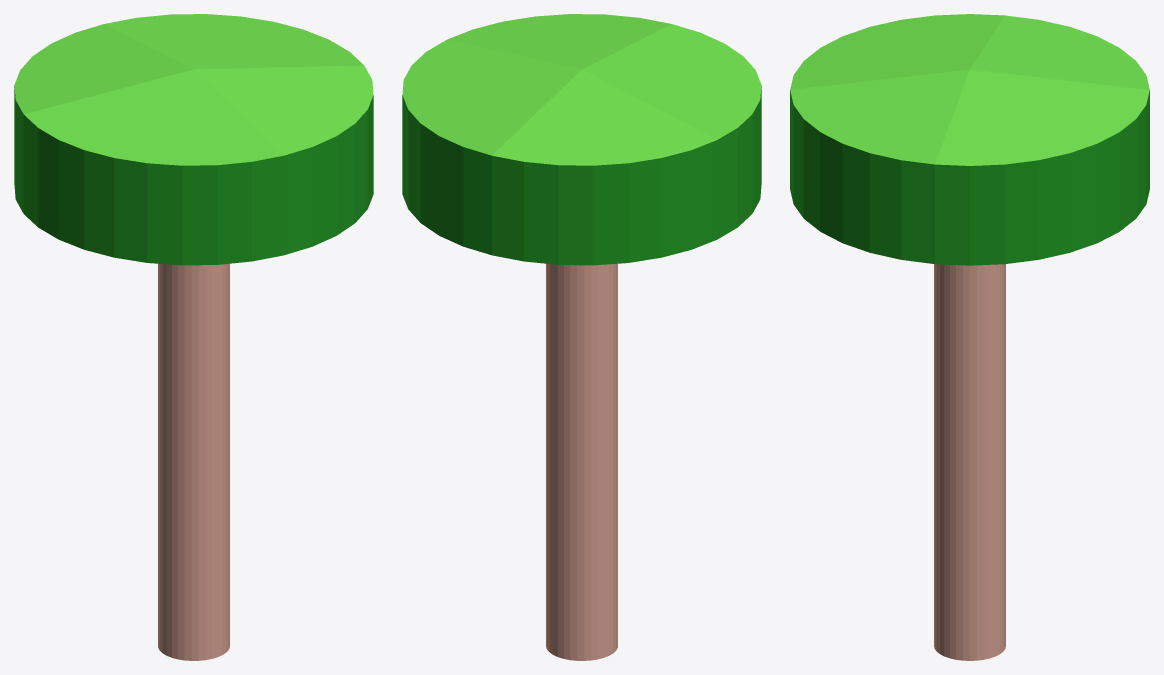
File: kinokofinalthistimeforereal.fbx
The picture shows the model from 3 angles, left to right: view 1: azimuth 30°, elevation 25°; view 2: azimuth 150°, elevation 25°; view 3: azimuth 270°, elevation 25°; orthographic projection.
Parts seen in each view (by area): view 1: Cylinder.002, Cylinder.001, Cylinder; view 2: Cylinder.002, Cylinder.001, Cylinder; view 3: Cylinder.002, Cylinder.001, Cylinder.
Boxes of the visible parts, x1=… form: Cylinder.002: x1=14, y1=14, x2=373, y2=165; Cylinder.001: x1=14, y1=85, x2=373, y2=265; Cylinder: x1=158, y1=263, x2=229, y2=660; Cylinder.002: x1=402, y1=14, x2=761, y2=165; Cylinder.001: x1=402, y1=85, x2=761, y2=265; Cylinder: x1=546, y1=263, x2=617, y2=660; Cylinder.002: x1=790, y1=14, x2=1149, y2=165; Cylinder.001: x1=790, y1=90, x2=1149, y2=265; Cylinder: x1=934, y1=264, x2=1005, y2=660.
Size of the model in its own units: 517 by 913 by 517.
